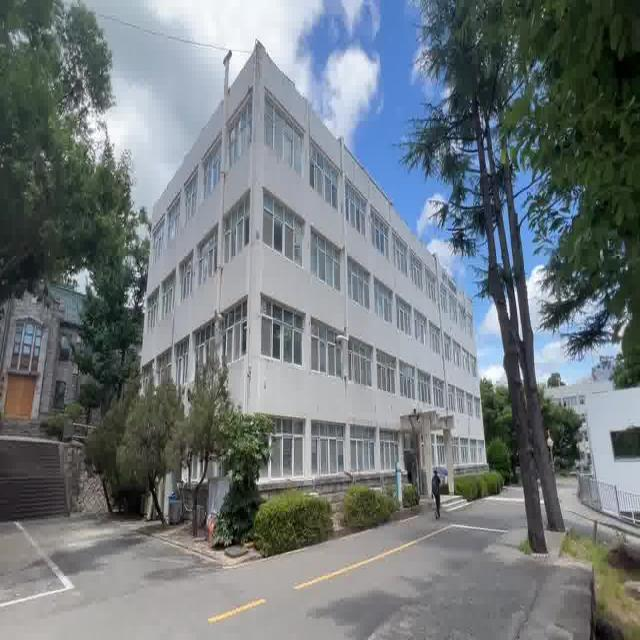building: (158, 68, 474, 456)
